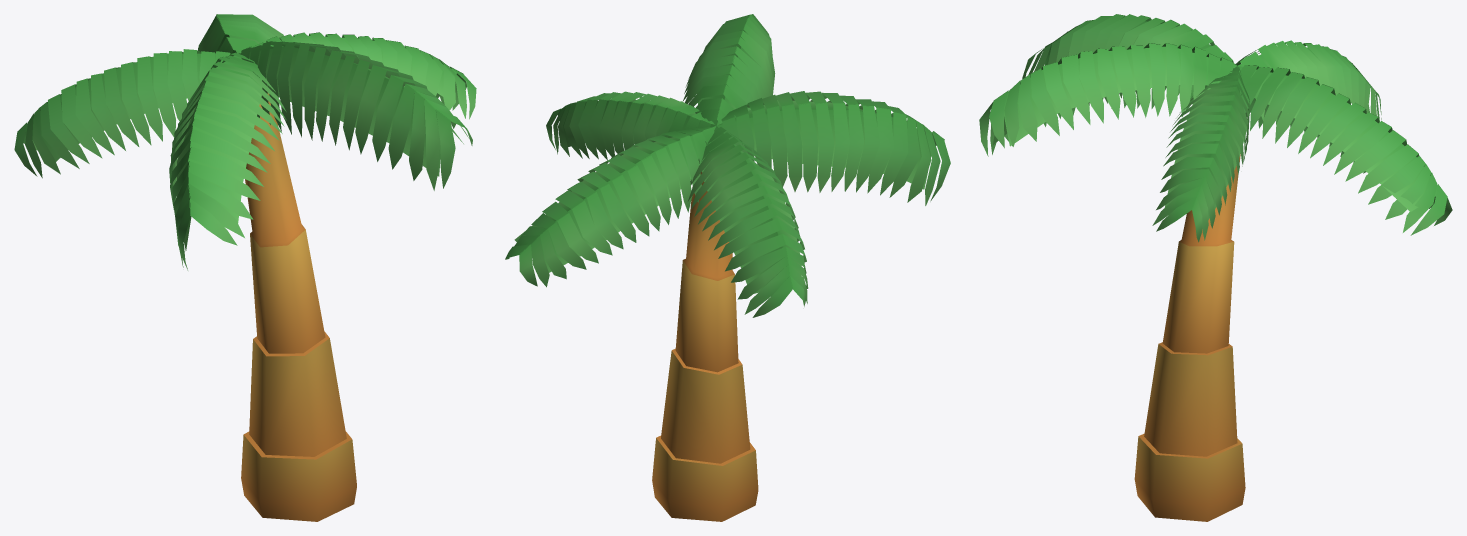
File: PalmTree2.fbx
3 views of the same model, side by side, from view 1: azimuth 30°, elevation 25°; view 2: azimuth 150°, elevation 25°; view 3: azimuth 270°, elevation 25° (orthographic). The views are drawn at different scales.
Visible parts, largest first — view 1: Circle.048, Circle.001; view 2: Circle.048, Circle.001; view 3: Circle.048, Circle.001.
Part boxes in pixels (<box>): Circle.048: <box>14,14,476,270</box>; Circle.001: <box>241,93,356,521</box>; Circle.048: <box>505,14,950,317</box>; Circle.001: <box>652,172,758,521</box>; Circle.048: <box>979,14,1452,242</box>; Circle.001: <box>1134,153,1245,521</box>.
Bounding box in the file's own units: 603 × 750 × 707.
